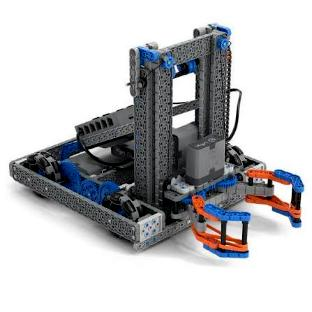Robot: (10, 23, 304, 257)
